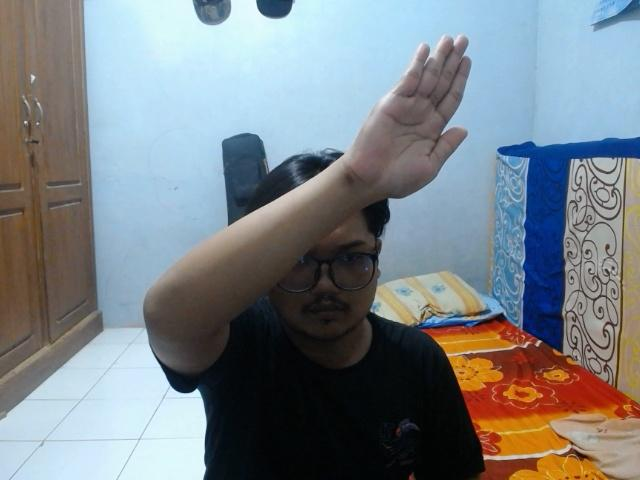Release: (341, 31, 474, 204)
